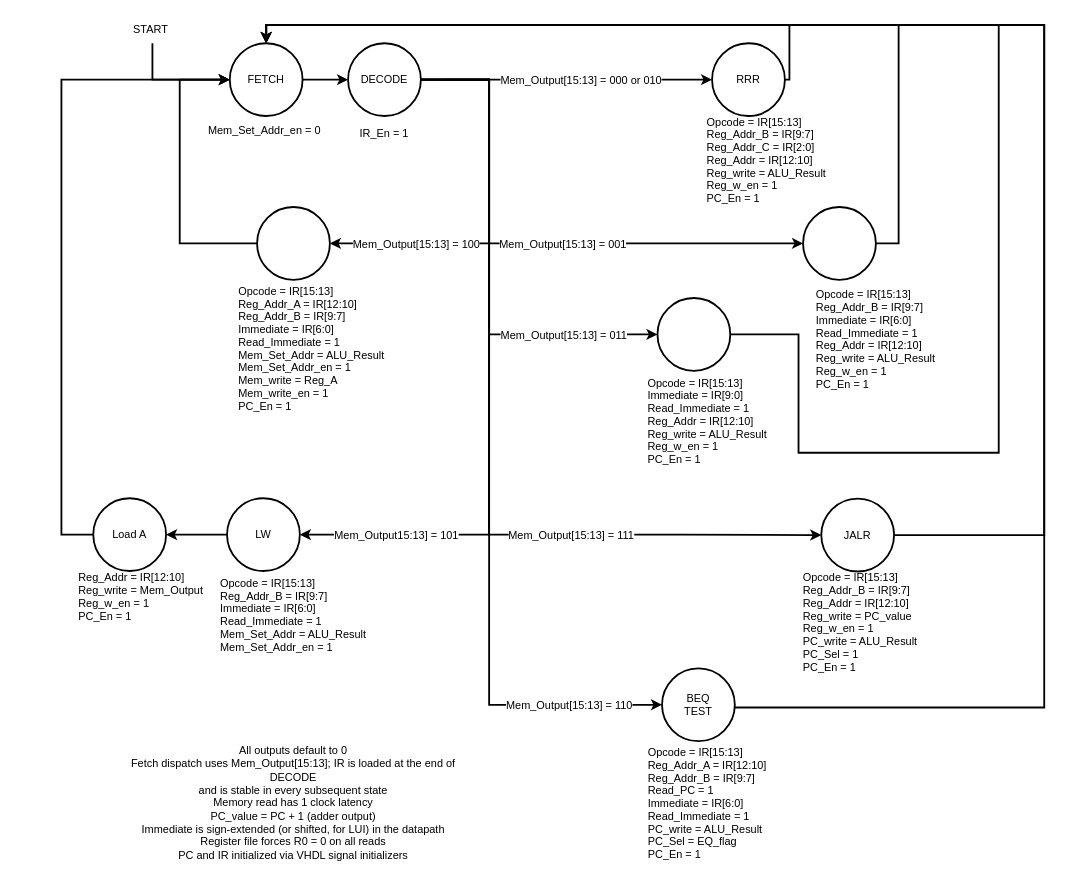
Some shapes in this 1067 by 877 pixel diagram are drawn without their labels. Here are the shapes that lost their labels. From the top down, the box of each, then its label:
(256, 206, 330, 280): SW
(802, 206, 876, 280): ADDI
(656, 297, 731, 371): LUI
